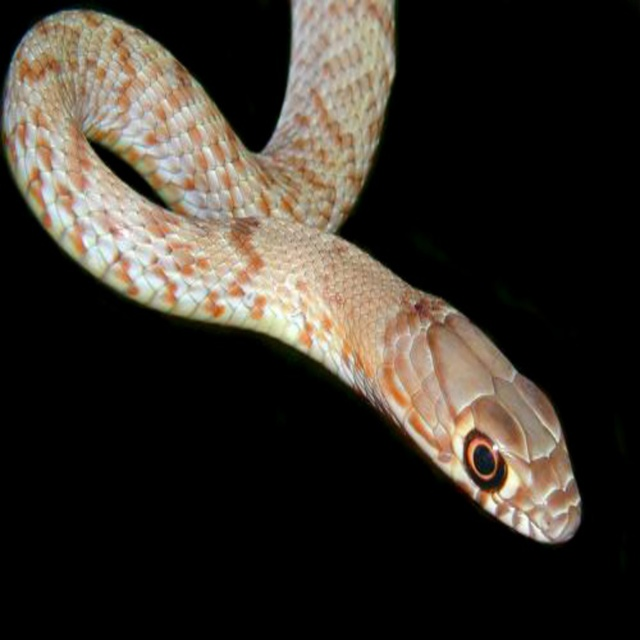Snake: (0, 0, 582, 542)
